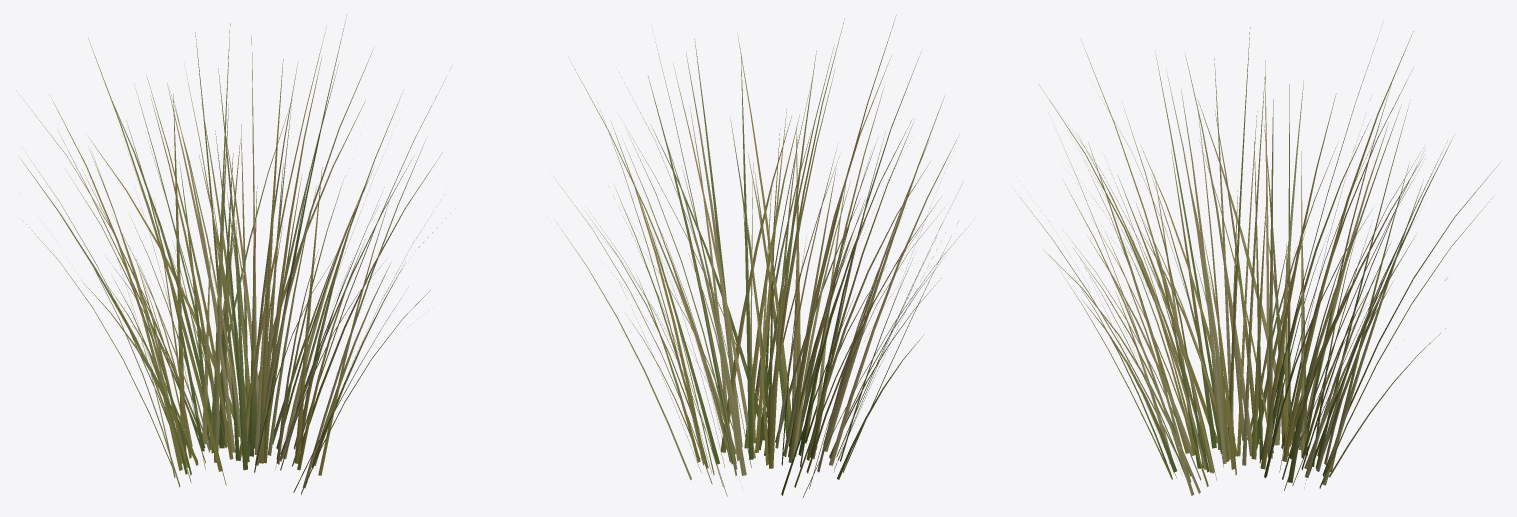
File: matgrass.glb
3 views of the same model, side by side, from view 1: azimuth 30°, elevation 25°; view 2: azimuth 150°, elevation 25°; view 3: azimuth 270°, elevation 25° (orthographic).
Parts seen in each view (by area): view 1: matgrass; view 2: matgrass; view 3: matgrass.
Part boxes in pixels (x1,y1,x2,y2): matgrass: (16,15,450,494); matgrass: (555,15,975,498); matgrass: (1014,27,1499,495).
Bounding box in the file's own units: 0.2961 × 0.2931 × 0.3024.
